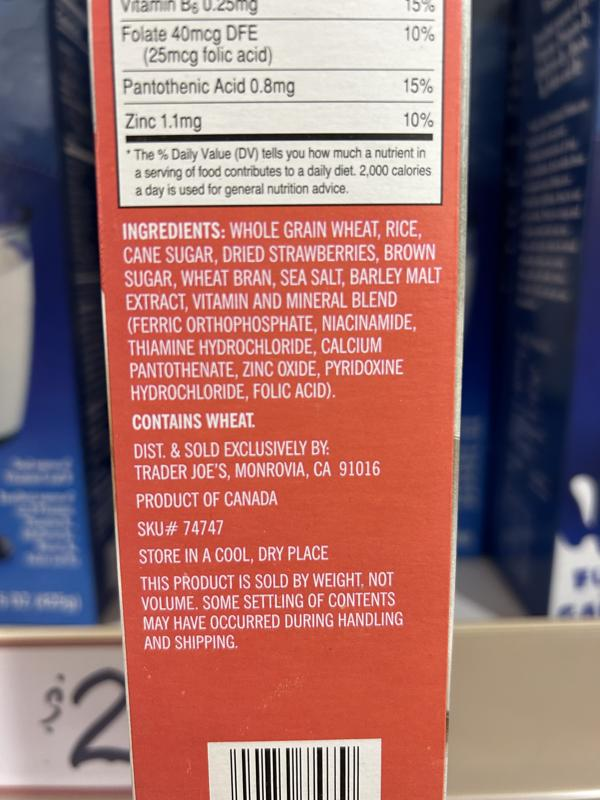ingredients: (119, 217, 445, 405)
